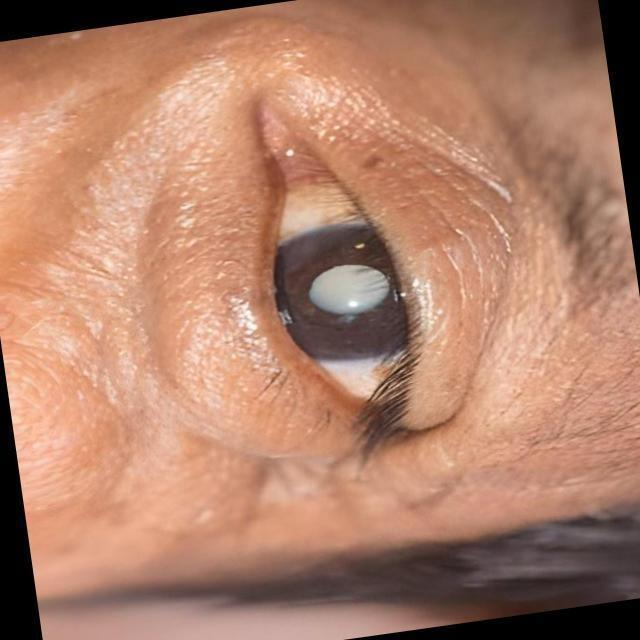Cataract: (250, 206, 440, 380)
